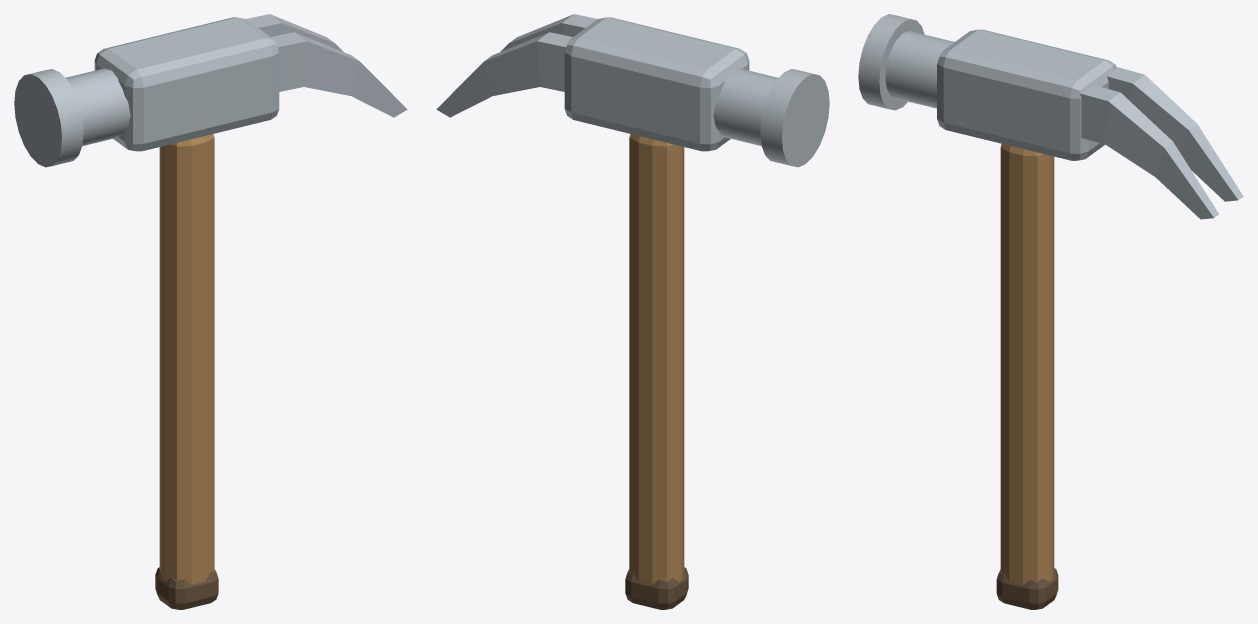
Rendered from prop_claw_hammer.glb.
The picture shows the model from 3 angles, left to right: view 1: azimuth 30°, elevation 25°; view 2: azimuth 150°, elevation 25°; view 3: azimuth 330°, elevation 25°; orthographic projection. The views are drawn at different scales.
Parts seen in each view (by area): view 1: Wooden handle, Steel head block, Flat striking face, Split curved claw -1, Striking neck, Handle end cap, Split curved claw 1; view 2: Wooden handle, Steel head block, Flat striking face, Split curved claw 1, Striking neck, Handle end cap, Split curved claw -1; view 3: Wooden handle, Steel head block, Split curved claw -1, Split curved claw 1, Striking neck, Flat striking face, Handle end cap.
Part boxes in pixels (box(x1,y1,x2,y2)): Wooden handle: box(159, 134, 214, 584); Steel head block: box(94, 17, 279, 151); Flat striking face: box(14, 69, 83, 167); Split curved claw -1: box(271, 32, 407, 117); Striking neck: box(65, 68, 130, 146); Handle end cap: box(155, 567, 218, 609); Split curved claw 1: box(246, 14, 343, 51); Wooden handle: box(629, 134, 684, 584); Steel head block: box(564, 17, 749, 151); Flat striking face: box(760, 69, 829, 167); Split curved claw 1: box(436, 32, 572, 117); Striking neck: box(713, 68, 778, 146); Handle end cap: box(625, 567, 688, 609); Split curved claw -1: box(500, 14, 597, 51); Wooden handle: box(1000, 144, 1054, 585); Steel head block: box(937, 29, 1116, 160); Split curved claw -1: box(1080, 85, 1218, 219); Split curved claw 1: box(1107, 67, 1243, 201); Striking neck: box(885, 31, 954, 108); Flat striking face: box(858, 14, 924, 110); Handle end cap: box(996, 568, 1058, 609).
Bounding box in the file's own units: 0.231 × 0.3495 × 0.054.
